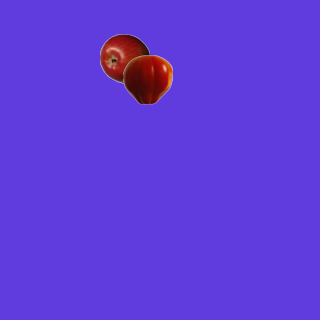Apple Braeburn: (99, 33, 149, 83)
Tomato 1: (122, 54, 172, 104)
